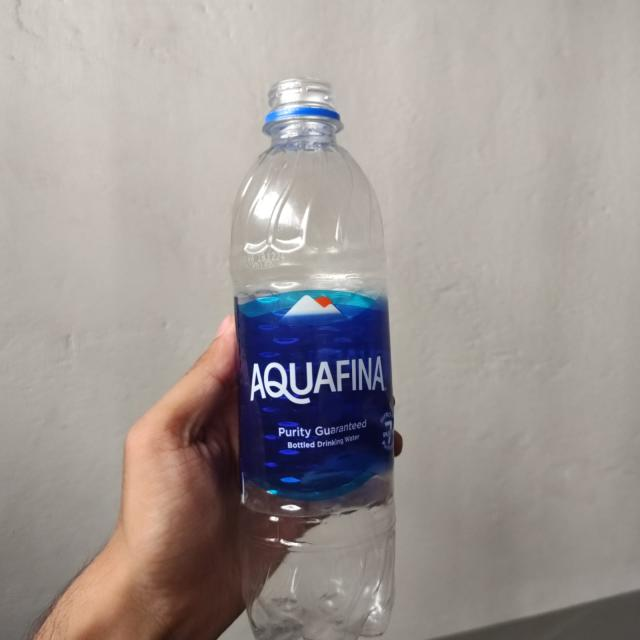bottle: (224, 76, 408, 640)
label: (230, 292, 404, 506)
